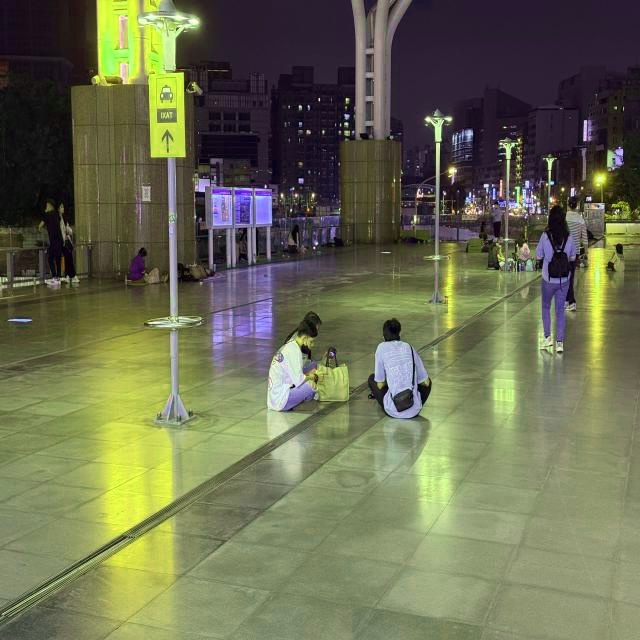Sin_Casco_Mascarrilla: (298, 320, 318, 351), (383, 317, 401, 340), (305, 311, 321, 330), (550, 205, 565, 225), (616, 243, 623, 253)
Sin_Chaleco: (383, 342, 412, 415)
